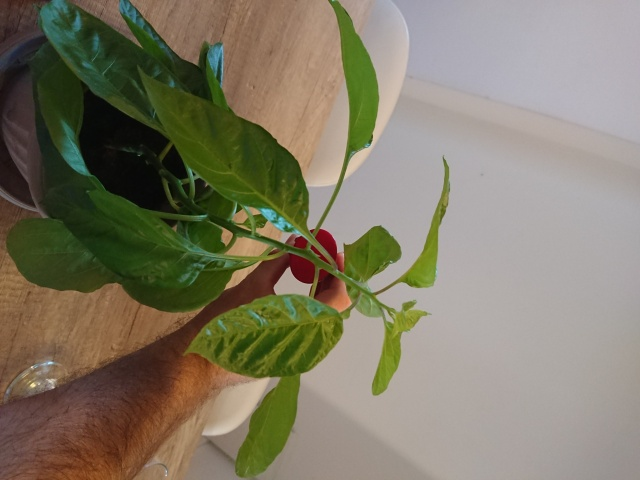Kotanyi Curry Spices Mix 70g: (289, 227, 339, 286)
